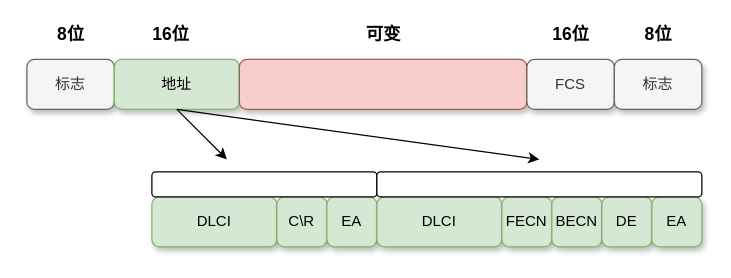
Image size: 731x278. Some labels were removed from this diagram. Here are the shapes that lost their labels. From the top down, the centre of each, then its label:
pixel 383 85: 数据
pixel 264 184: 字节1
pixel 539 184: 字节2
